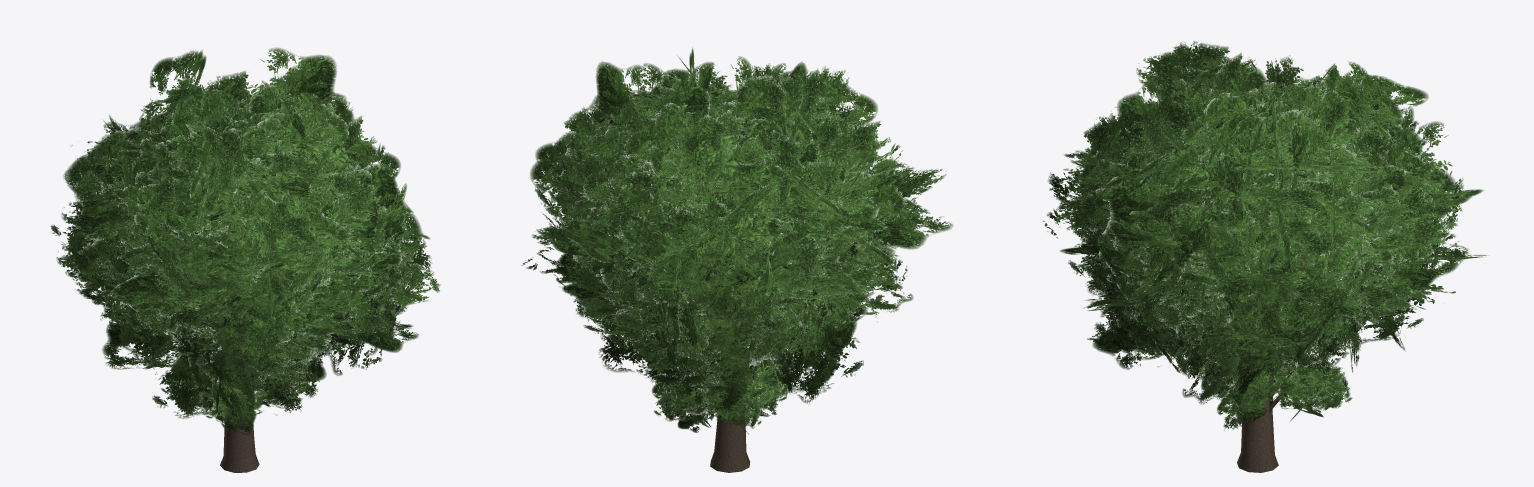
The model's file is arbres.glb.
The picture shows the model from 3 angles, left to right: view 1: azimuth 30°, elevation 25°; view 2: azimuth 150°, elevation 25°; view 3: azimuth 270°, elevation 25°; orthographic projection. The views are drawn at different scales.
Visible parts, largest first — view 1: platane_c_feuilles_leger, platane_b_feuilles_leger, platane_c_feuilles, platane_b_feuilles, platane_a_feuilles_leger, platane_a_feuilles, olivier_a_feuilles_leger, olivier_a_feuilles, platane_b_bois, platane_c_bois; view 2: platane_b_feuilles_leger, platane_c_feuilles_leger, platane_c_feuilles, platane_b_feuilles, platane_a_feuilles, platane_a_feuilles_leger, olivier_a_feuilles_leger, olivier_a_feuilles, platane_c_bois; view 3: platane_c_feuilles_leger, platane_c_feuilles, platane_b_feuilles_leger, platane_a_feuilles_leger, platane_b_feuilles, platane_a_feuilles, olivier_a_feuilles_leger, olivier_a_feuilles, platane_c_bois, platane_a_bois.
Part boxes in pixels (<box>): platane_c_feuilles_leger: <box>65,80,440,385</box>; platane_b_feuilles_leger: <box>50,47,413,414</box>; platane_c_feuilles: <box>73,92,439,361</box>; platane_b_feuilles: <box>71,73,415,393</box>; platane_a_feuilles_leger: <box>56,88,432,425</box>; platane_a_feuilles: <box>76,106,412,415</box>; olivier_a_feuilles_leger: <box>161,358,309,435</box>; olivier_a_feuilles: <box>172,362,302,431</box>; platane_b_bois: <box>140,152,306,459</box>; platane_c_bois: <box>136,192,336,472</box>; platane_b_feuilles_leger: <box>535,61,896,397</box>; platane_c_feuilles_leger: <box>532,62,952,341</box>; platane_c_feuilles: <box>536,47,929,365</box>; platane_b_feuilles: <box>548,63,913,381</box>; platane_a_feuilles: <box>522,62,887,414</box>; platane_a_feuilles_leger: <box>530,55,897,396</box>; olivier_a_feuilles_leger: <box>652,356,792,434</box>; olivier_a_feuilles: <box>660,354,798,432</box>; platane_c_bois: <box>637,170,825,472</box>; platane_c_feuilles_leger: <box>1060,41,1489,375</box>; platane_c_feuilles: <box>1064,44,1468,376</box>; platane_b_feuilles_leger: <box>1047,55,1483,398</box>; platane_a_feuilles_leger: <box>1088,57,1447,384</box>; platane_b_feuilles: <box>1043,63,1457,375</box>; platane_a_feuilles: <box>1076,73,1423,404</box>; olivier_a_feuilles_leger: <box>1201,353,1352,430</box>; olivier_a_feuilles: <box>1202,359,1345,424</box>; platane_c_bois: <box>1152,169,1347,472</box>; platane_a_bois: <box>1157,179,1327,442</box>.
Bounding box in the file's own units: 15.02 × 15.11 × 16.7.
Materials: 2 (2 with a texture image).
